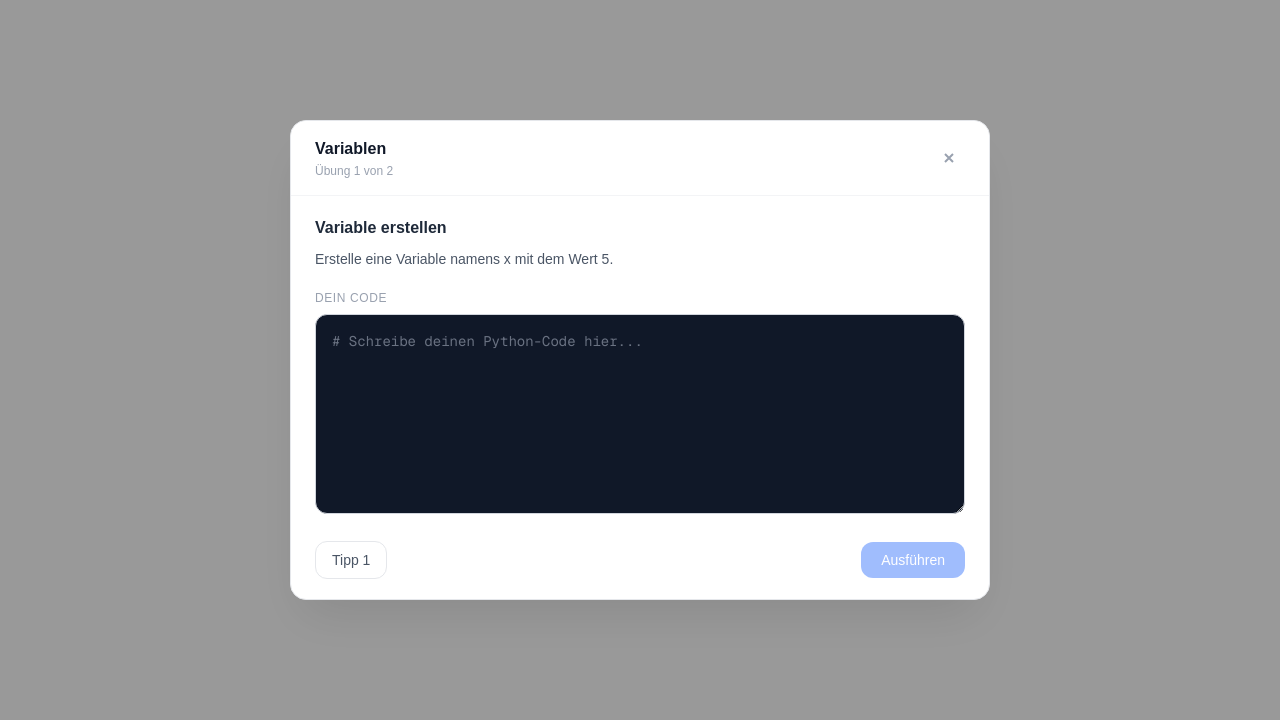
Test: ExerciseModal › shows Falsch banner when submitExercise returns falsch
The image size is (1280, 720).
Expected: the heading "Variable erstellen" is shown, 315,219 -> 447,236
Type "wrong code" into the text box at [640, 414], box 315,314 -> 965,514
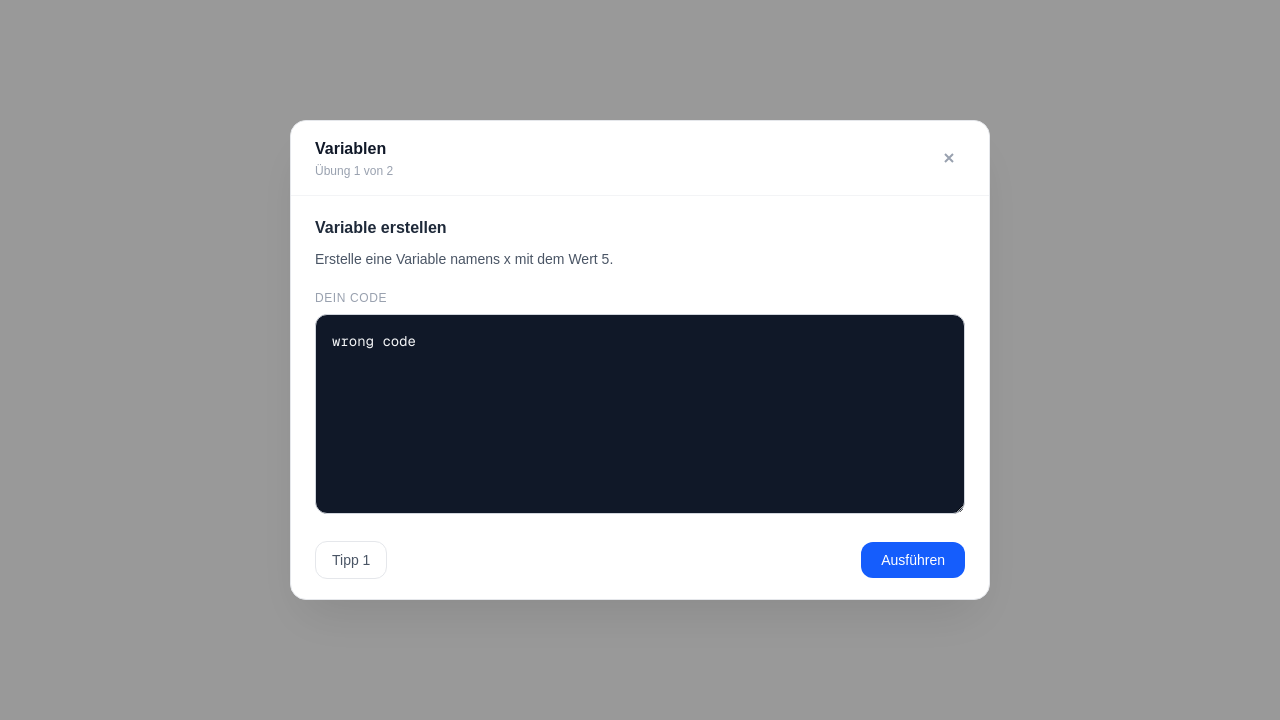
Click the button "Ausführen" at [913, 560], box 861,542 -> 965,578
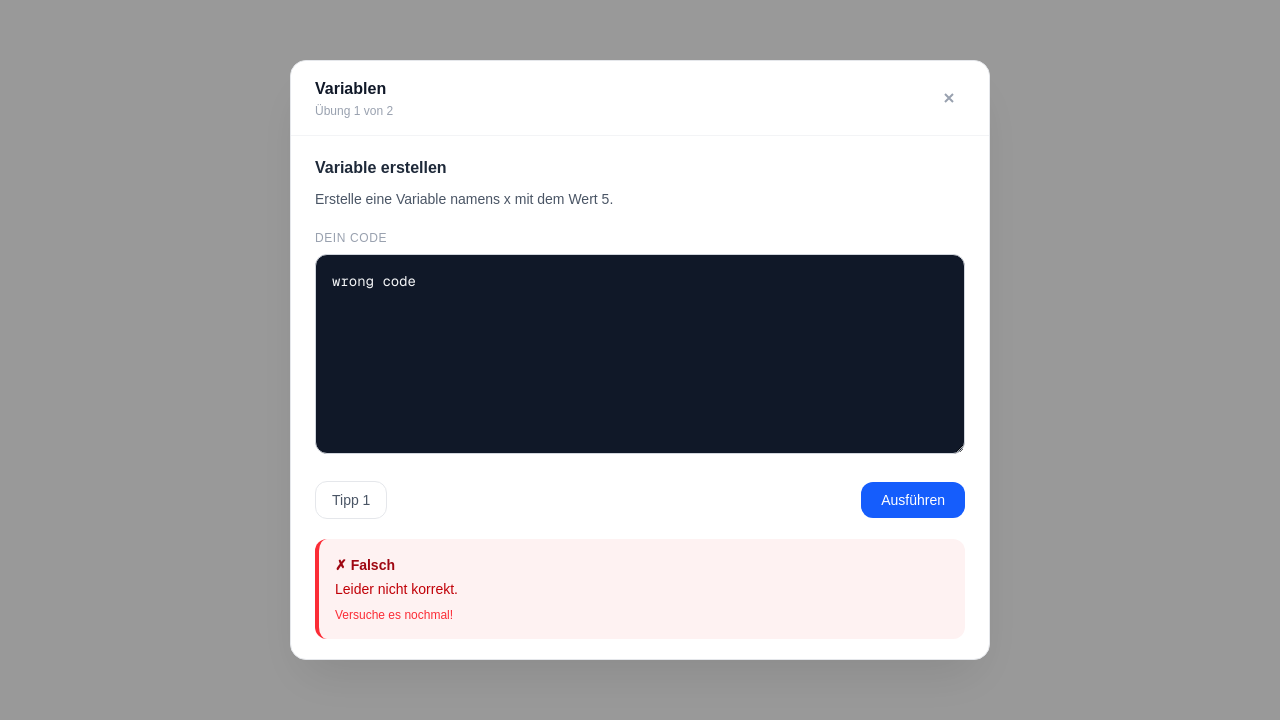
Expected: the text "✗ Falsch" is shown, 335,557 -> 395,573
Expected: the text "Leider nicht korrekt." is shown, 335,581 -> 458,597
